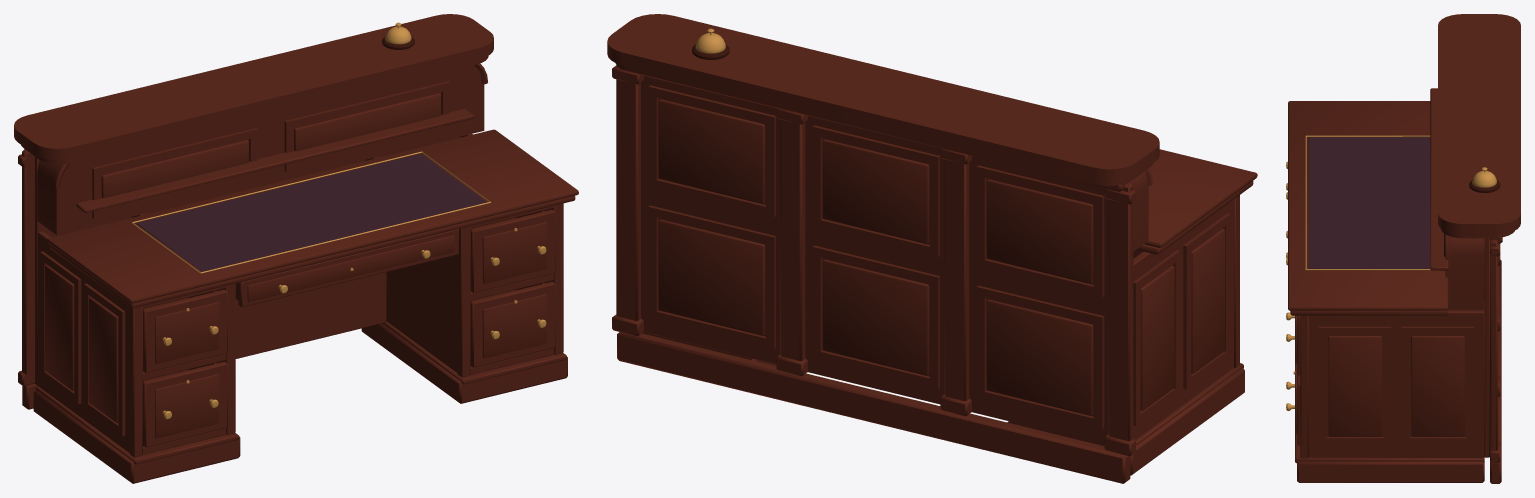
Rendered from ReceptionDesk.glb.
3 renders of one model, left to right at view 1: azimuth 30°, elevation 25°; view 2: azimuth 150°, elevation 25°; view 3: azimuth 270°, elevation 25°, orthographic. The views are drawn at different scales.
Parts seen in each view (by area): view 1: ReceptionDesk_Body, ReceptionDesk_Inset, ReceptionDesk_DrawerR2, ReceptionDesk_DrawerC, ReceptionDesk_DrawerL2, ReceptionDesk_DrawerR1, ReceptionDesk_DrawerL1, ReceptionDesk_InsetTrim; view 2: ReceptionDesk_Body; view 3: ReceptionDesk_Body, ReceptionDesk_Inset, ReceptionDesk_InsetTrim, ReceptionDesk_DrawerR2, ReceptionDesk_BellDome, ReceptionDesk_DrawerR1.
Boxes of the visible parts, x1,y1,x2,y2 form: ReceptionDesk_Body: [14, 14, 578, 483]; ReceptionDesk_Inset: [136, 154, 486, 271]; ReceptionDesk_DrawerR2: [470, 281, 555, 367]; ReceptionDesk_DrawerC: [235, 229, 458, 307]; ReceptionDesk_DrawerL2: [143, 361, 227, 447]; ReceptionDesk_DrawerR1: [470, 209, 555, 293]; ReceptionDesk_DrawerL1: [143, 289, 227, 373]; ReceptionDesk_InsetTrim: [132, 151, 490, 273]; ReceptionDesk_Body: [607, 14, 1257, 483]; ReceptionDesk_Body: [1288, 14, 1520, 483]; ReceptionDesk_Inset: [1308, 137, 1430, 268]; ReceptionDesk_InsetTrim: [1305, 135, 1430, 270]; ReceptionDesk_DrawerR2: [1295, 363, 1300, 445]; ReceptionDesk_BellDome: [1472, 170, 1496, 187]; ReceptionDesk_DrawerR1: [1295, 315, 1300, 375].
Bounding box in the file's own units: 1.92 × 1.21 × 0.907.
